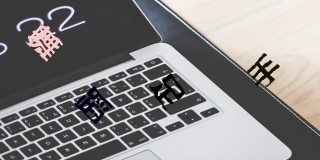手: (247, 53, 280, 86)
舞: (25, 24, 63, 63)
足: (149, 73, 185, 111)
蹈: (74, 86, 113, 124)
